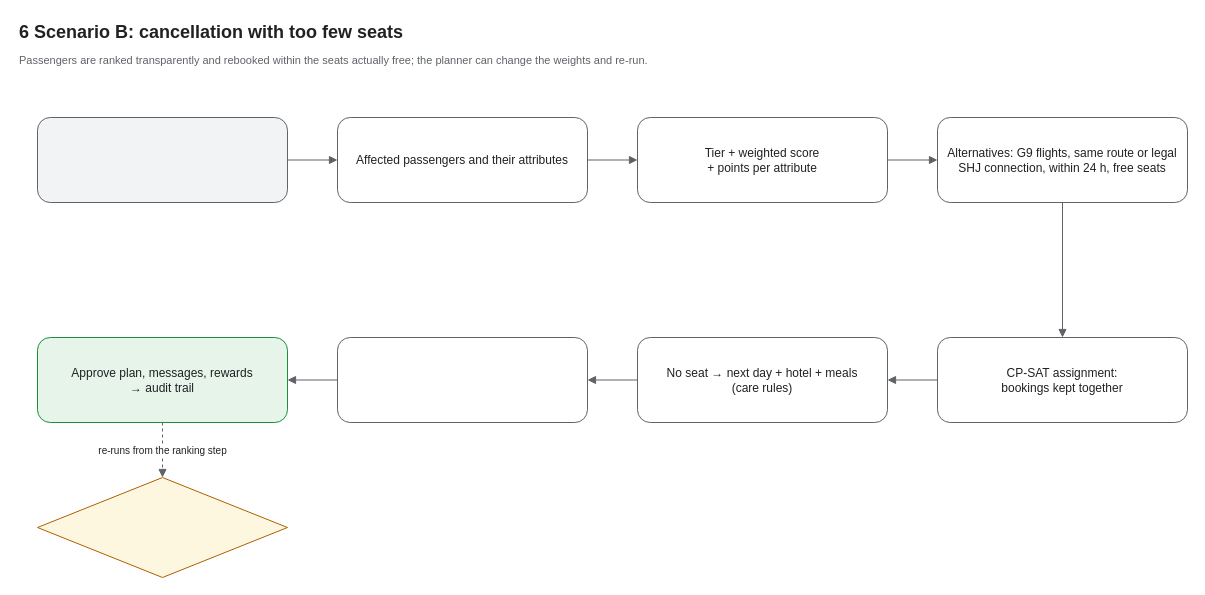
Some shapes in this 1205 by 595 pixel diagram are drawn without their labels. Here are the shapes that lost their labels. From the top down, the box of each, then its label:
(36, 116, 288, 202): PCU agent: flight G9xxx cancelled
(336, 336, 588, 422): Reasons, message drafts, reward plan within a budget
(36, 476, 288, 578): What-if: change the priority weights → re-run ranking and rebooking
